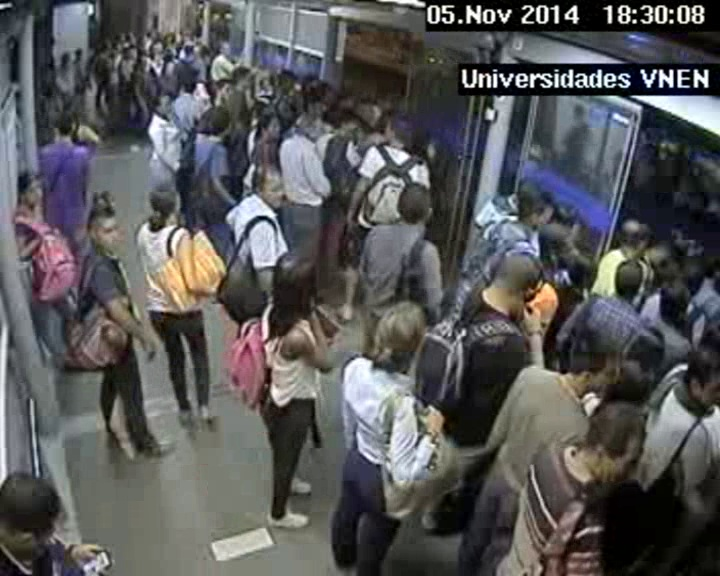person: (1, 469, 65, 556), (588, 400, 650, 483), (374, 298, 429, 366), (568, 327, 621, 394), (268, 249, 322, 311), (493, 248, 546, 310), (680, 348, 720, 409), (393, 178, 435, 226), (249, 163, 292, 208), (84, 204, 122, 249), (629, 324, 666, 367), (149, 184, 182, 223), (659, 283, 690, 324), (614, 259, 644, 298), (15, 175, 47, 211), (386, 115, 418, 150), (203, 103, 234, 138), (567, 254, 597, 290), (256, 111, 286, 142), (680, 261, 706, 294), (566, 223, 595, 252), (293, 114, 321, 144), (617, 219, 645, 249), (519, 195, 545, 227), (652, 253, 679, 283), (551, 200, 576, 230), (54, 111, 80, 139), (335, 110, 358, 139), (150, 91, 173, 117), (230, 66, 253, 91), (306, 78, 329, 103), (305, 97, 328, 122), (359, 100, 381, 126), (274, 68, 296, 92), (255, 65, 276, 89), (216, 77, 235, 101), (216, 39, 232, 56), (182, 80, 197, 95), (151, 41, 164, 55), (133, 60, 146, 73), (59, 53, 71, 67), (191, 43, 203, 57), (116, 31, 128, 43), (74, 48, 85, 61), (183, 45, 194, 56), (99, 43, 109, 54), (123, 48, 133, 59), (140, 34, 149, 46), (163, 50, 173, 60), (164, 34, 173, 44)
